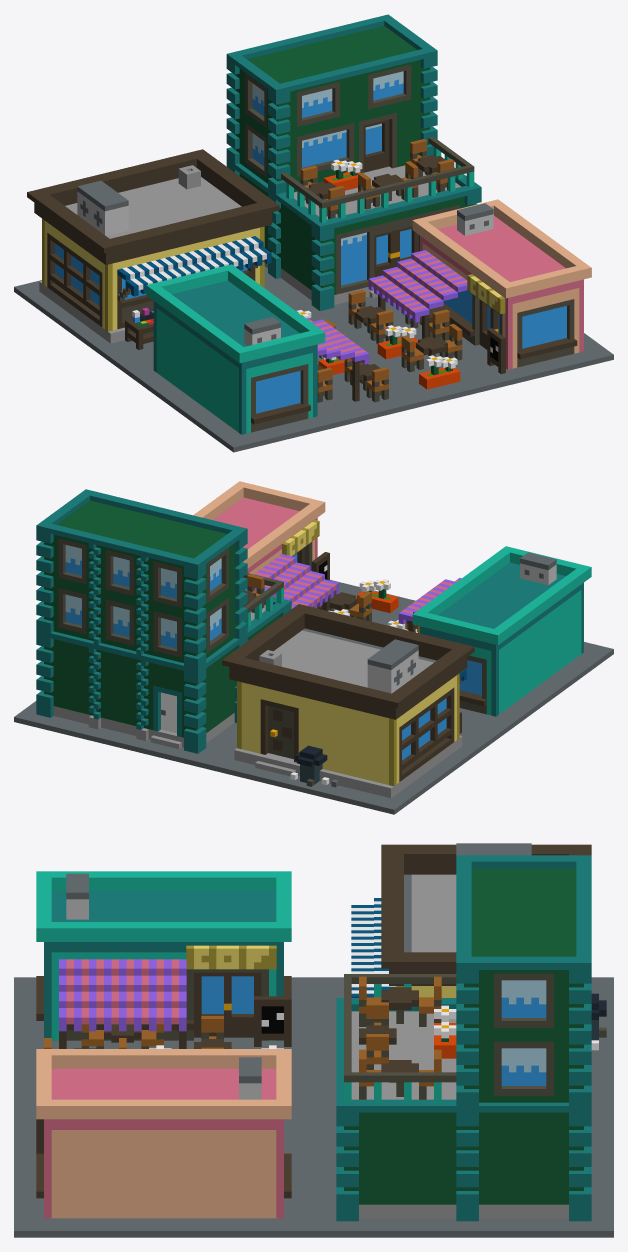
Rendered from building_small_7_overtile.obj.
3 renders of one model, top to bottom at view 1: azimuth 30°, elevation 25°; view 2: azimuth 150°, elevation 25°; view 3: azimuth 270°, elevation 25°, orthographic. The views are drawn at different scales.
Size of the model in its own units: 8 by 3.9 by 8.
1 material, 1 textured.
